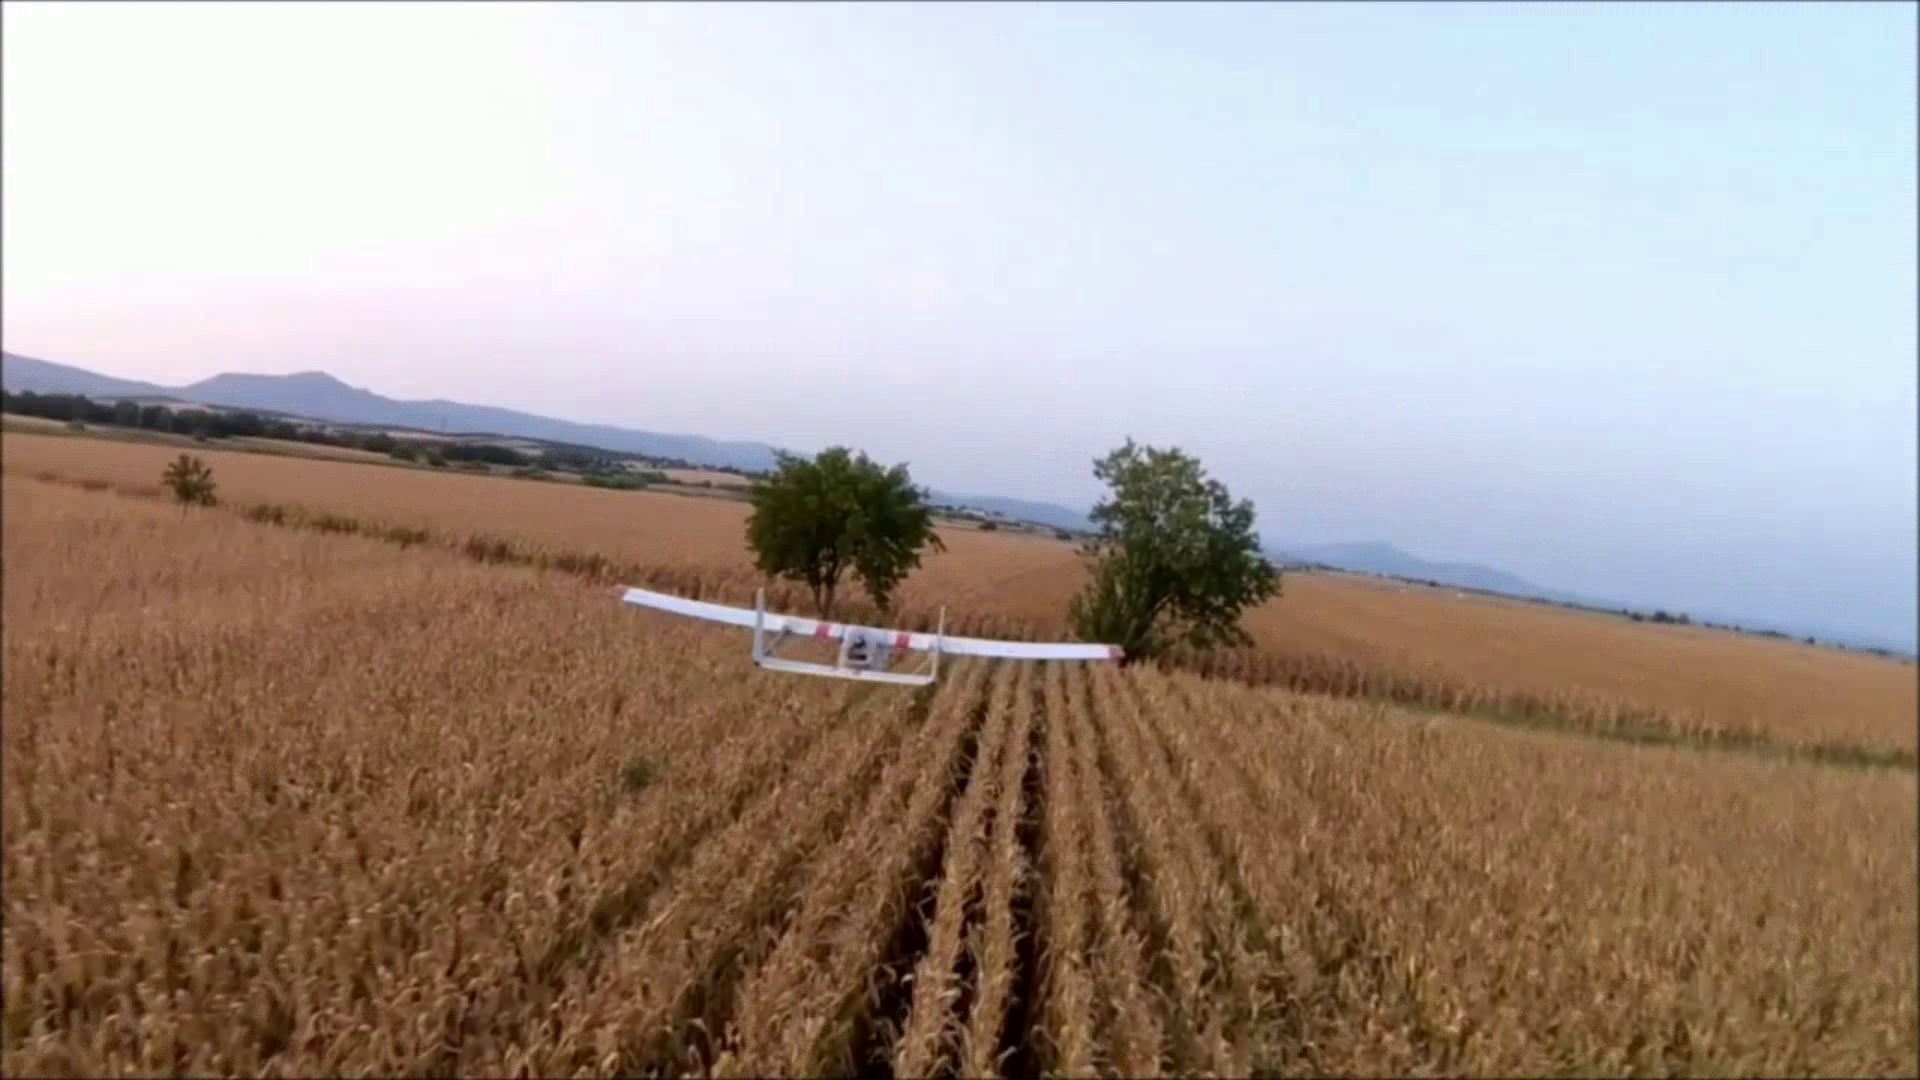airplane: (622, 582, 1123, 684)
